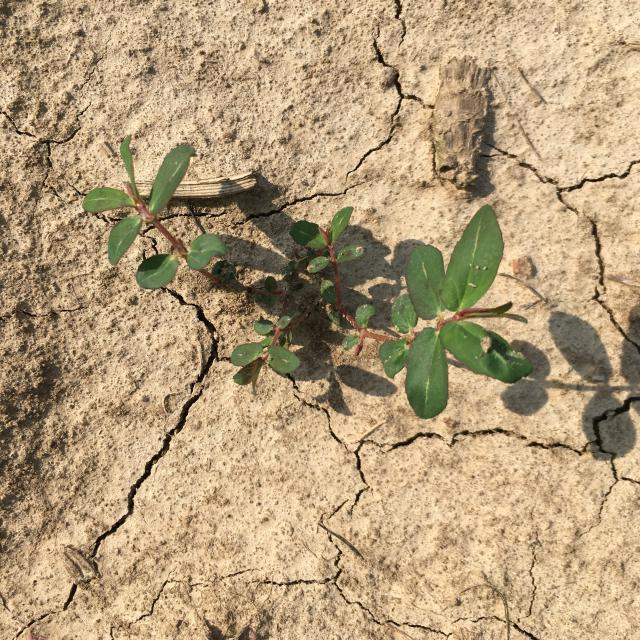SpottedSpurge: (230, 204, 533, 420), (83, 135, 250, 294)
